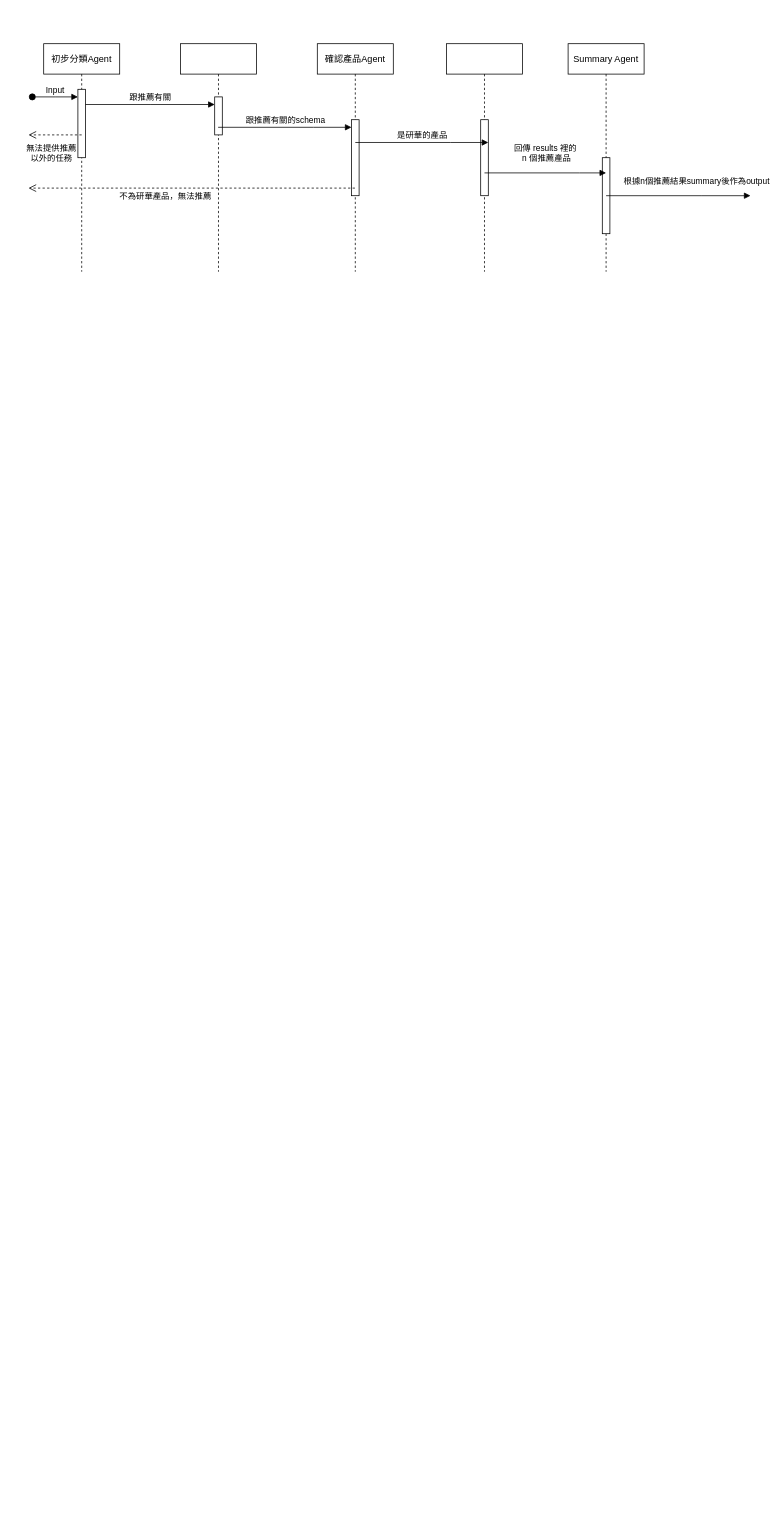
The diagram is 782 pixels wide and 1523 high, and some of its shapes have lost their labels. Each missing label, with the centre of its shape:
以物推物API: the point at 484,157
解析Agent: the point at 218,157
